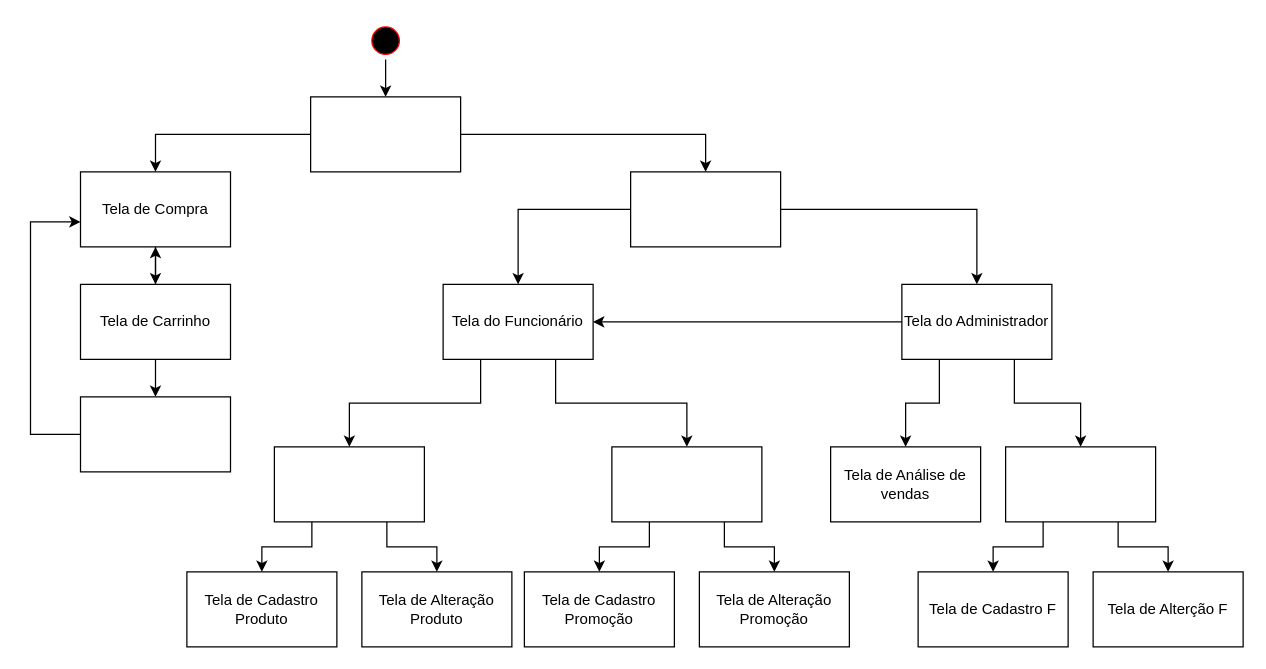
This 1266x669 diagram has some shape labels left out. The box of each missing label's shape, as (x1, y1, x2, y2) in pixels:
Tela de Estoque: (273, 446, 424, 522)
Tela de Funcionarios: (1004, 446, 1156, 522)
Tela de Login: (629, 171, 781, 247)
Tela de Pagamento: (79, 396, 230, 472)
Tela de Promoções: (611, 446, 762, 522)
Tela Inicial: (309, 96, 461, 172)
